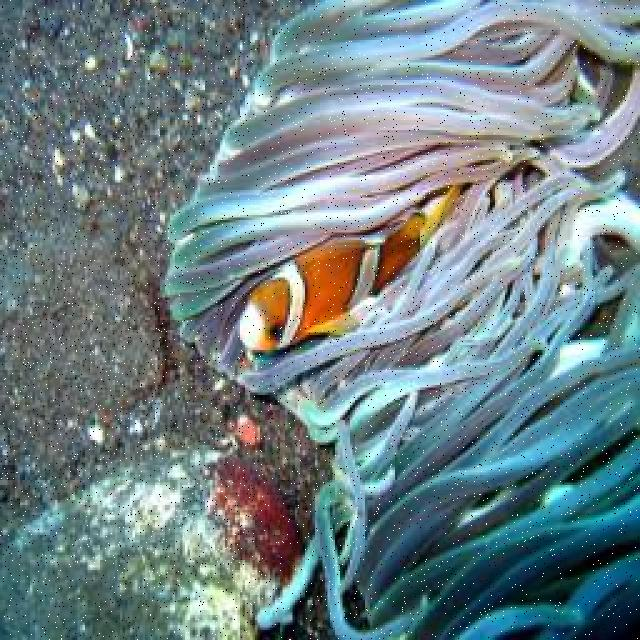fish: (237, 184, 462, 354)
reefs: (164, 0, 638, 638)
